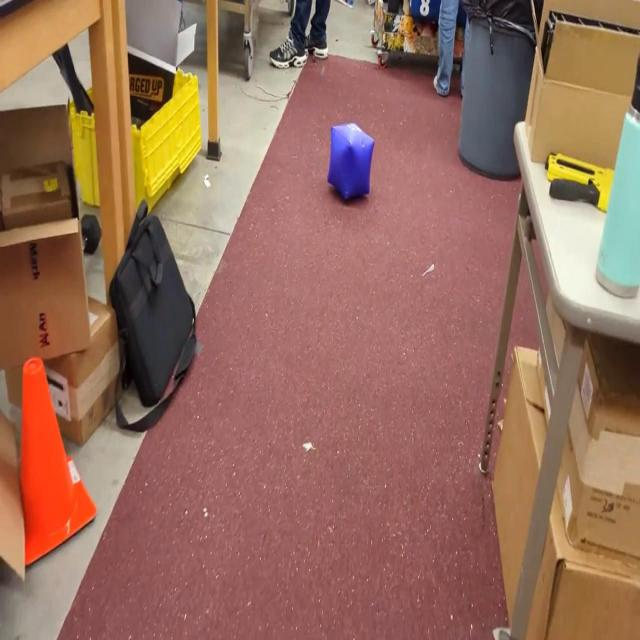frc_cube: (328, 119, 374, 204)
